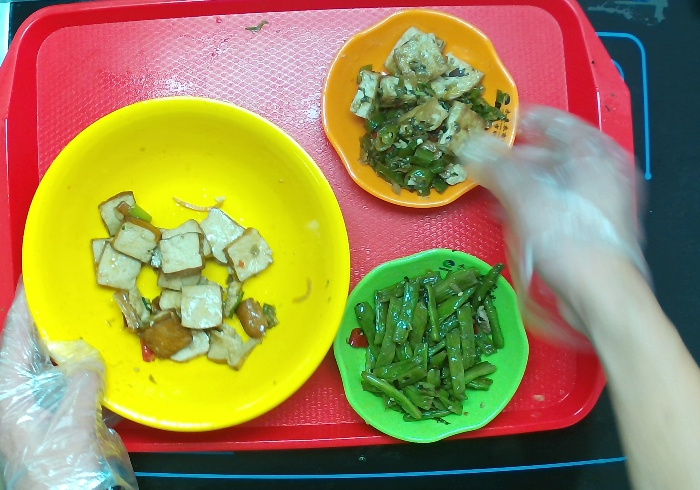YKMZ-Huang_Se_Tang_Wan: (20, 94, 352, 431)
YKMZ-Ju_Se_Ao_Bian_Wan: (320, 8, 521, 212)
YKMZ-Lv_Se_Ao_Bian_Wan: (337, 245, 532, 446)
